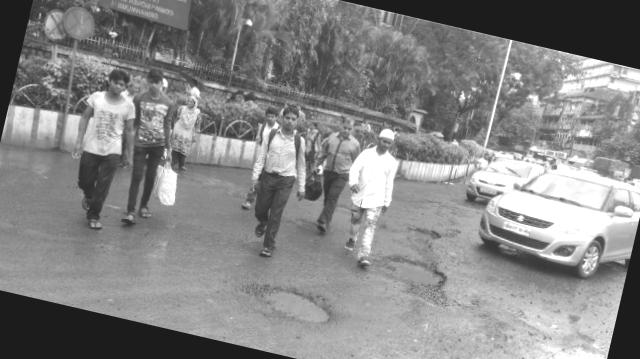Pothole: (261, 266, 333, 330), (368, 248, 450, 299), (400, 210, 450, 254)
